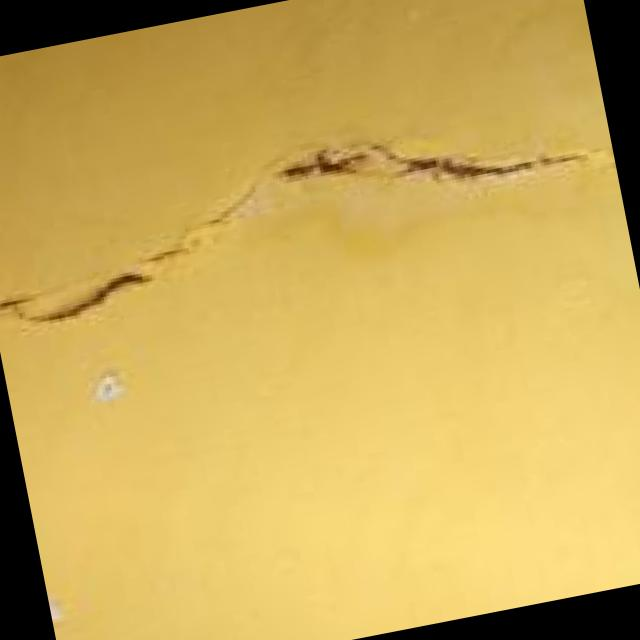crack: (0, 32, 602, 456)
